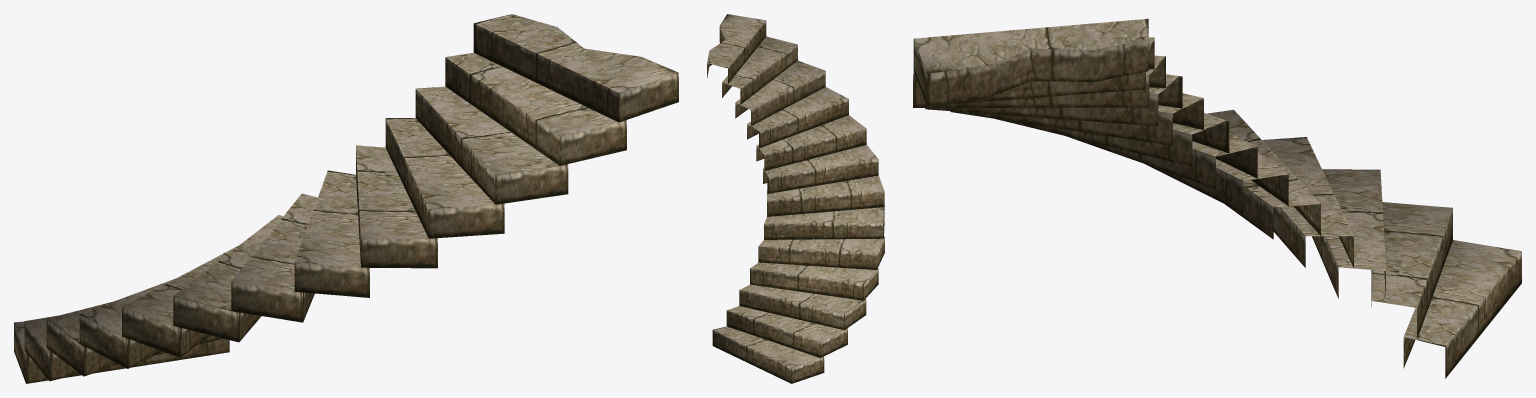
File: OVERHILL_A_01_STONE_STEP02.fbx
3 renders of one model, left to right at view 1: azimuth 30°, elevation 25°; view 2: azimuth 150°, elevation 25°; view 3: azimuth 270°, elevation 25°, orthographic. The views are drawn at different scales.
Visible parts, largest first — view 1: OVERHILL_A_01_STONE_STEP02; view 2: OVERHILL_A_01_STONE_STEP02; view 3: OVERHILL_A_01_STONE_STEP02.
Boxes of the visible parts, <box> form: OVERHILL_A_01_STONE_STEP02: <box>14,14,678,383</box>; OVERHILL_A_01_STONE_STEP02: <box>707,14,884,383</box>; OVERHILL_A_01_STONE_STEP02: <box>913,18,1521,378</box>.
Bounding box in the file's own units: 42770 × 36851 × 48656.
1 material, 1 textured.
